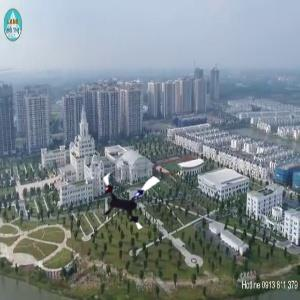drone: (95, 163, 168, 236)
